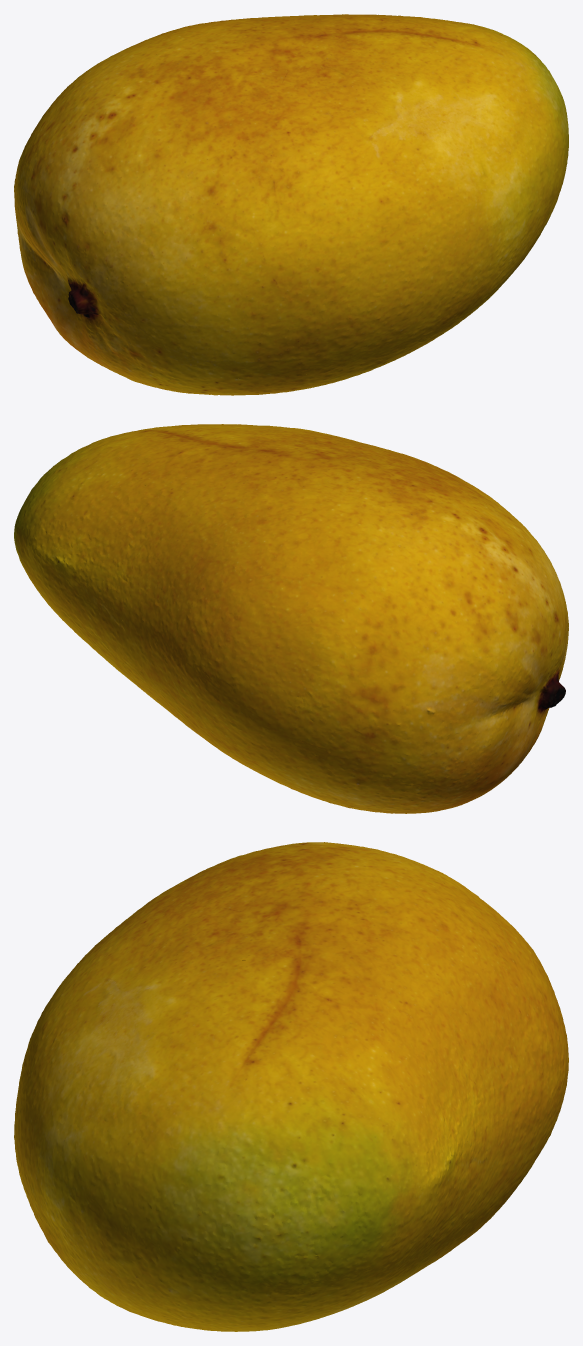
File: mango.glb
3 views of the same model, one above another, from view 1: azimuth 30°, elevation 25°; view 2: azimuth 150°, elevation 25°; view 3: azimuth 270°, elevation 25° (orthographic). The views are drawn at different scales.
Bounding box in the file's own units: 1.51 × 0.8967 × 1.12.
Materials: 1 (1 with a texture image).
